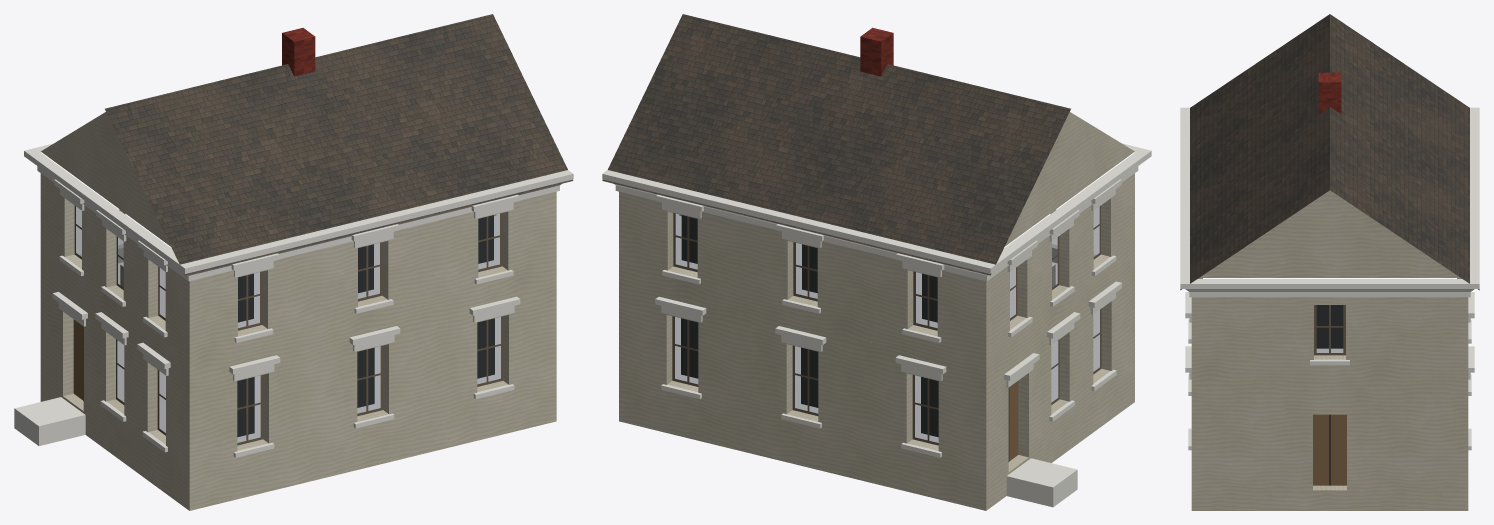
File: st_pauls_priests_house_1871__house_1868_1871.glb
3 renders of one model, left to right at view 1: azimuth 30°, elevation 25°; view 2: azimuth 150°, elevation 25°; view 3: azimuth 270°, elevation 25°, orthographic. The views are drawn at different scales.
Visible parts, largest first — view 1: st_pauls_priests_house_1871__house_1868_1871; view 2: st_pauls_priests_house_1871__house_1868_1871; view 3: st_pauls_priests_house_1871__house_1868_1871.
Part boxes in pixels (x1,y1,x2,y2): st_pauls_priests_house_1871__house_1868_1871: (14, 14, 573, 510); st_pauls_priests_house_1871__house_1868_1871: (602, 14, 1151, 510); st_pauls_priests_house_1871__house_1868_1871: (1180, 14, 1479, 510).
Bounding box in the file's own units: 12.02 × 10.2 × 7.9.
9 materials, 3 textured.
